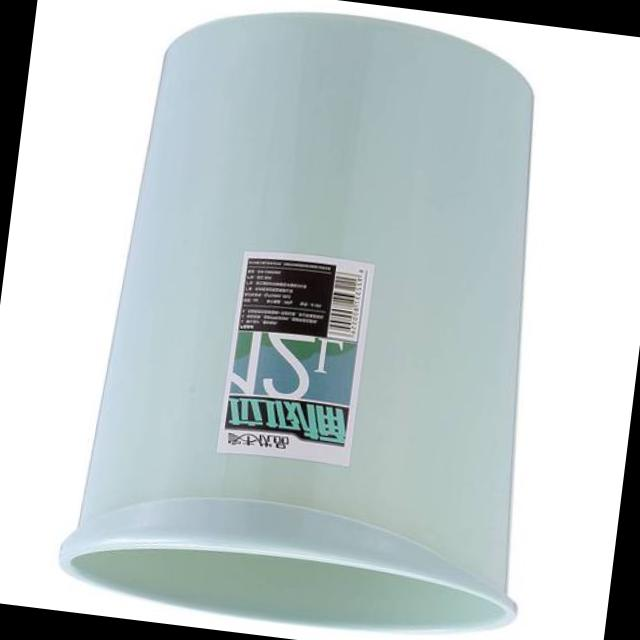dustbin: (48, 0, 592, 640)
